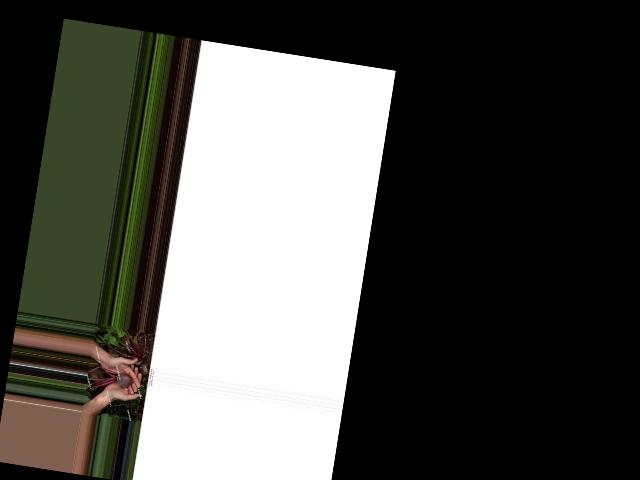beet: (86, 363, 135, 398)
